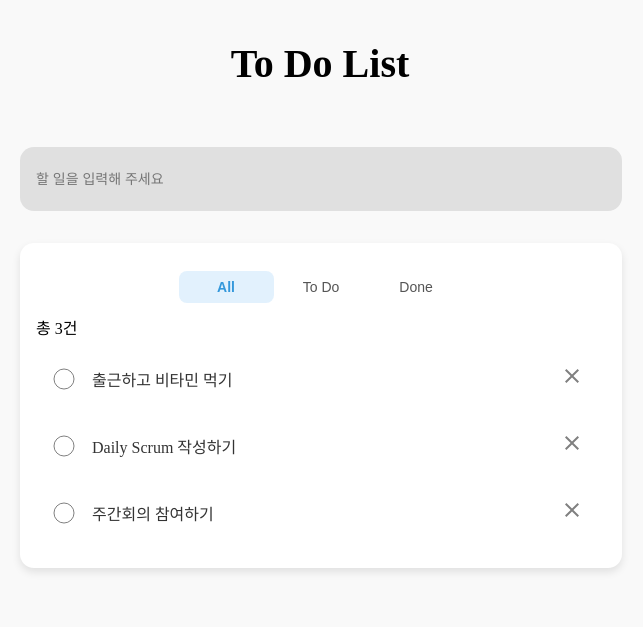
TodoUserListPage 페이지 테스트 › 전체항목 렌더링 및 입력 테스트
Type "New Task" into the field with placeholder "할 일을 입력해 주세요".
click(321, 179); type("New Task")  # box [20, 147, 622, 211]
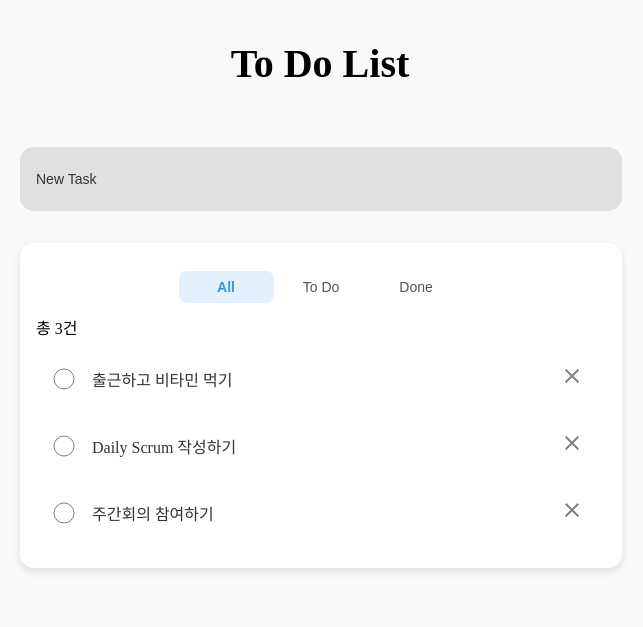
Press Enter in the field with placeholder "할 일을 입력해 주세요", box [20, 147, 622, 211]
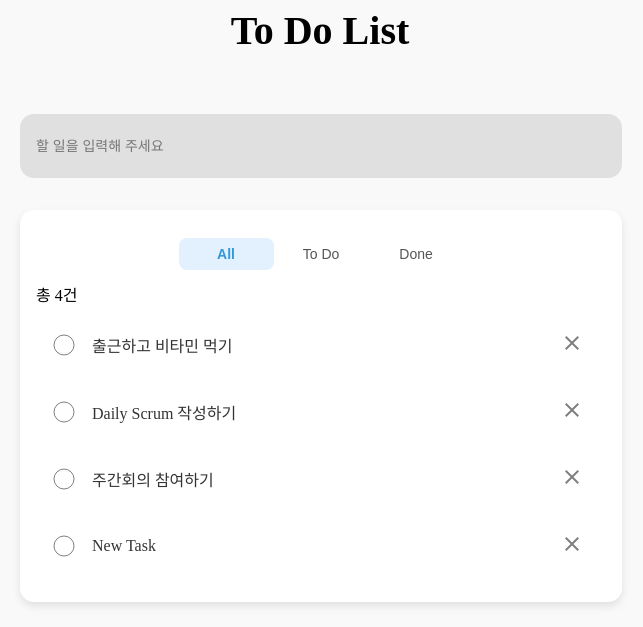
Result: the text "New Task" is shown at [92, 537, 156, 554]
